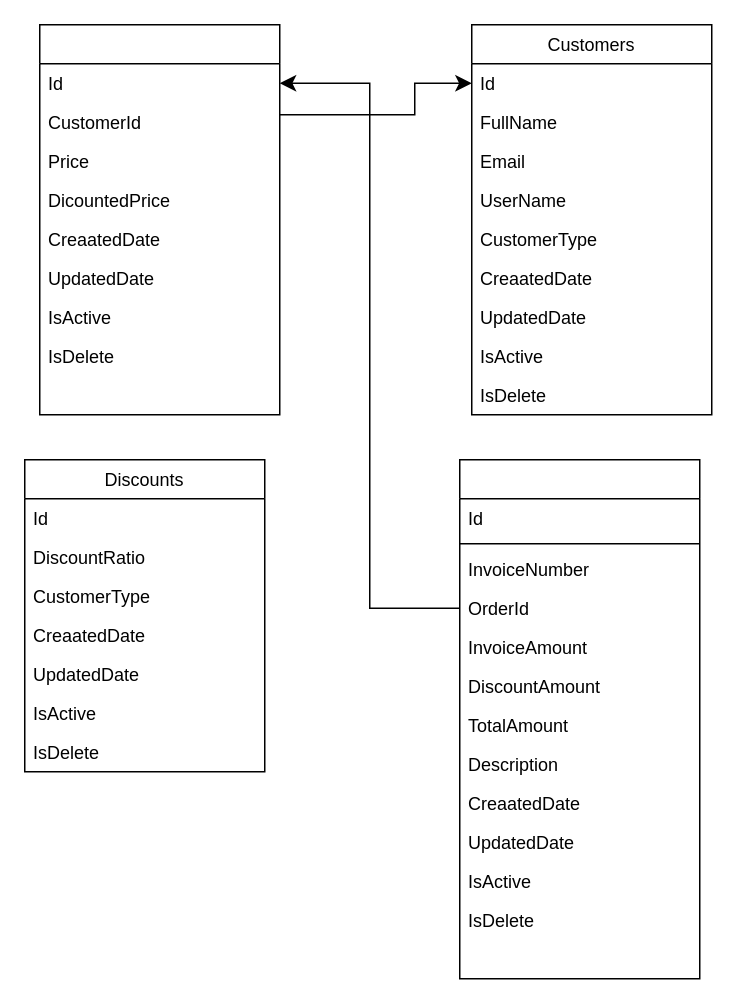
This 737x1004 diagram has some shape labels left out. Each missing label, with the box of its shape:
Invoices: (458, 458, 700, 979)
Orders: (38, 23, 280, 415)
